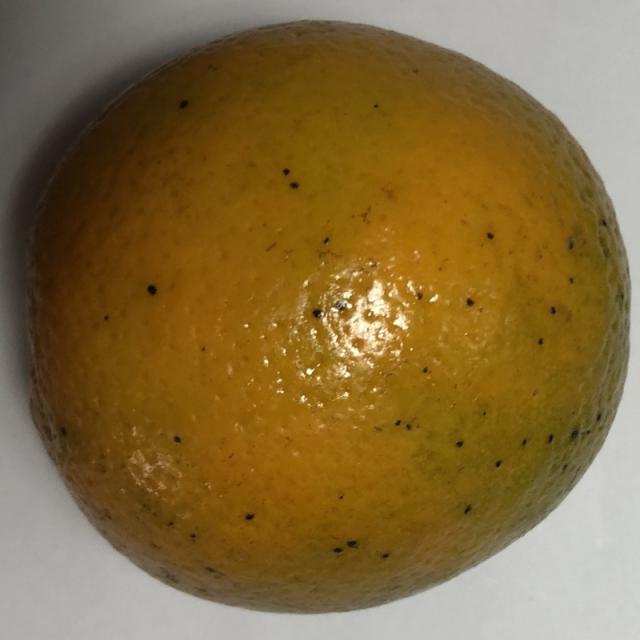blackspot: (7, 8, 640, 626)
